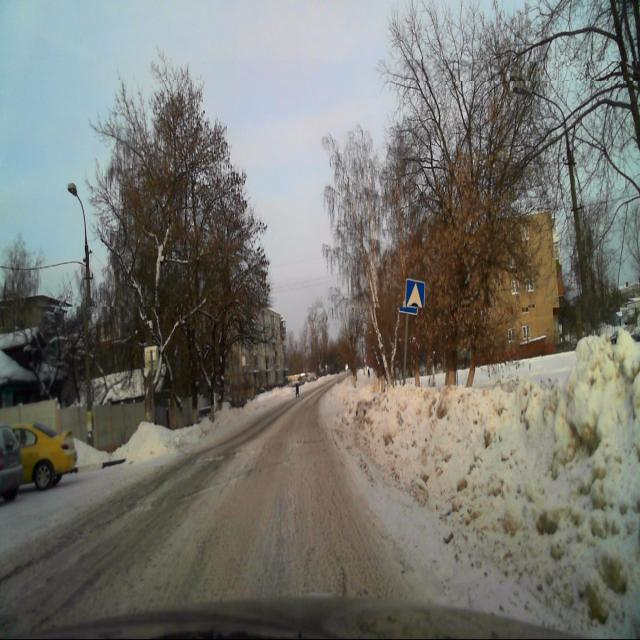road sign: (404, 277, 425, 314)
